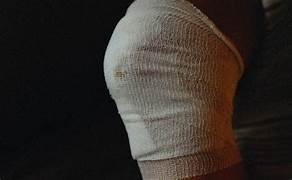Bandage: (104, 0, 243, 179)
cotton: (233, 0, 291, 179), (261, 0, 283, 30)
